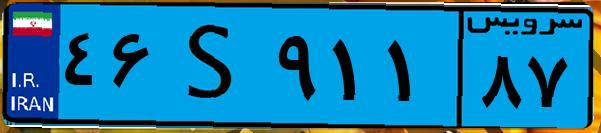1: (385, 28, 445, 110), (330, 28, 385, 110)
4: (57, 26, 110, 100)
6: (110, 28, 158, 98)
7: (525, 38, 570, 115)
8: (475, 38, 525, 113)
9: (270, 28, 330, 110)
S: (158, 12, 270, 120)
